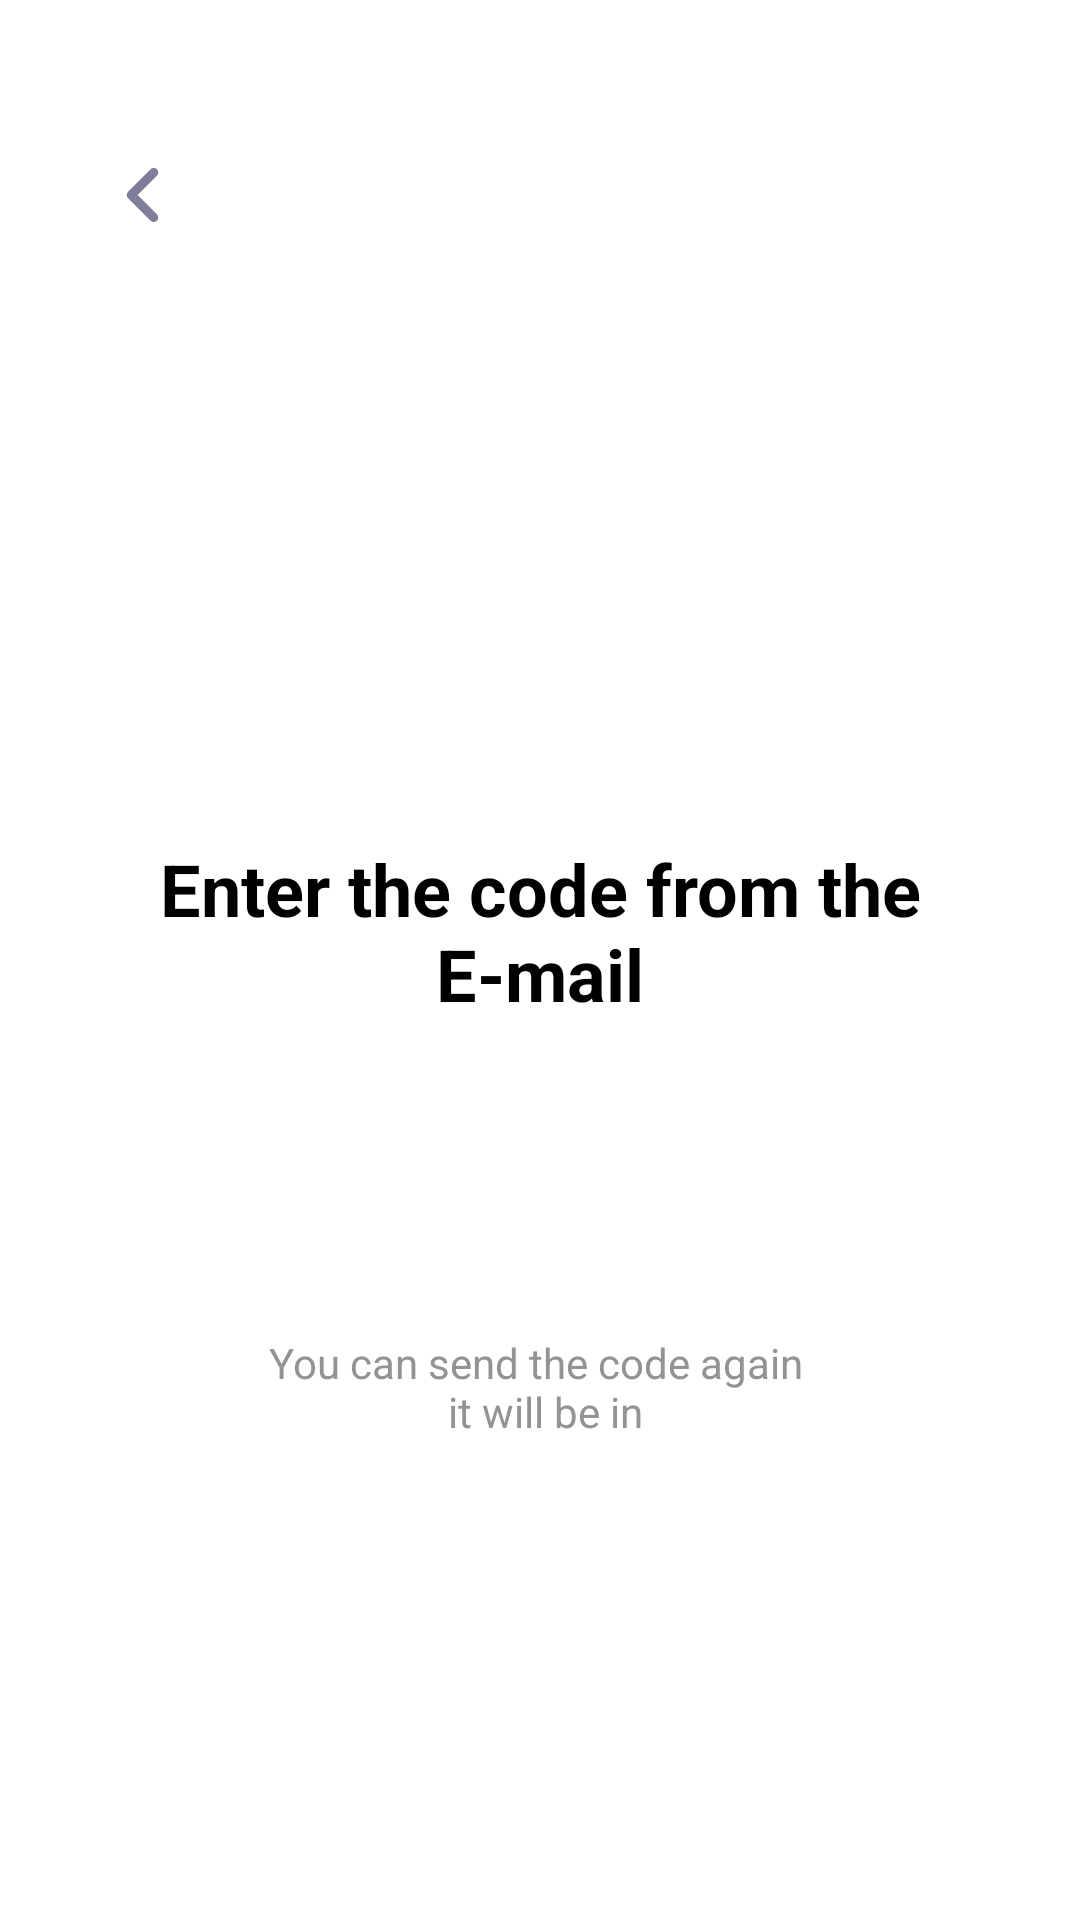

Icons on this 1080 × 1920 Android screen, each with the point to tap as point (x, y):
arrow: point (143, 195)
